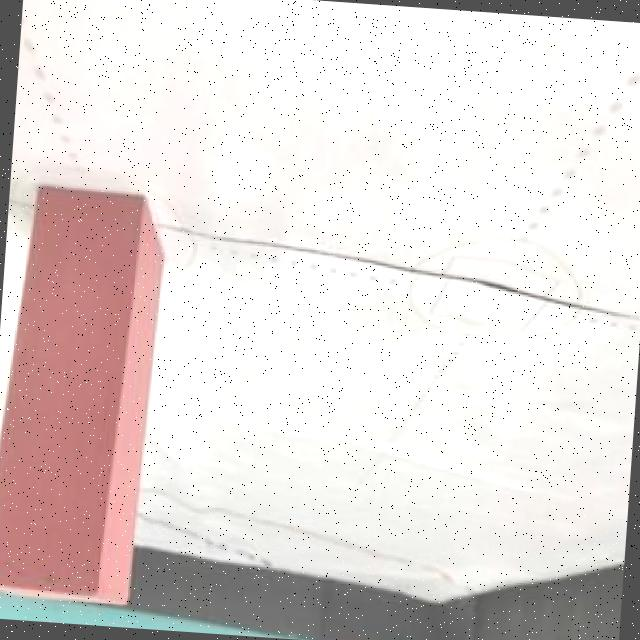redbox: (0, 182, 167, 606)
